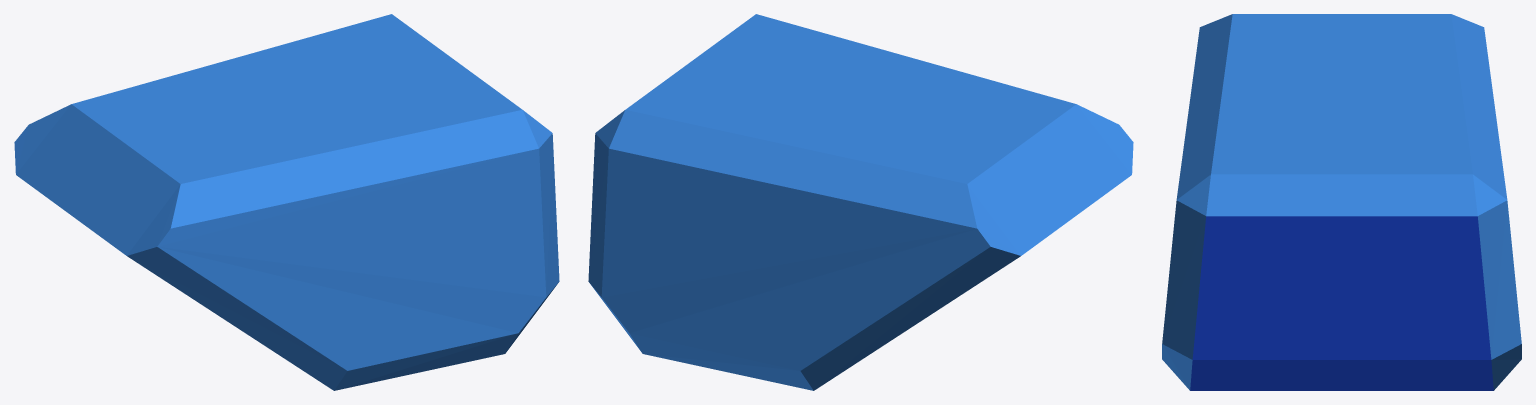
File: hand.FBX
3 views of the same model, side by side, from view 1: azimuth 30°, elevation 25°; view 2: azimuth 150°, elevation 25°; view 3: azimuth 270°, elevation 25° (orthographic).
Parts seen in each view (by area): view 1: VIFS001; view 2: VIFS001; view 3: VIFS001, VIFS002.
Boxes of the visible parts, x1=… form: VIFS001: x1=14, y1=14, x2=559, y2=390; VIFS001: x1=588, y1=14, x2=1133, y2=390; VIFS001: x1=1162, y1=14, x2=1521, y2=390; VIFS002: x1=1190, y1=216, x2=1493, y2=390.
Size of the model in its own units: 0.597 by 0.318 by 0.449.
